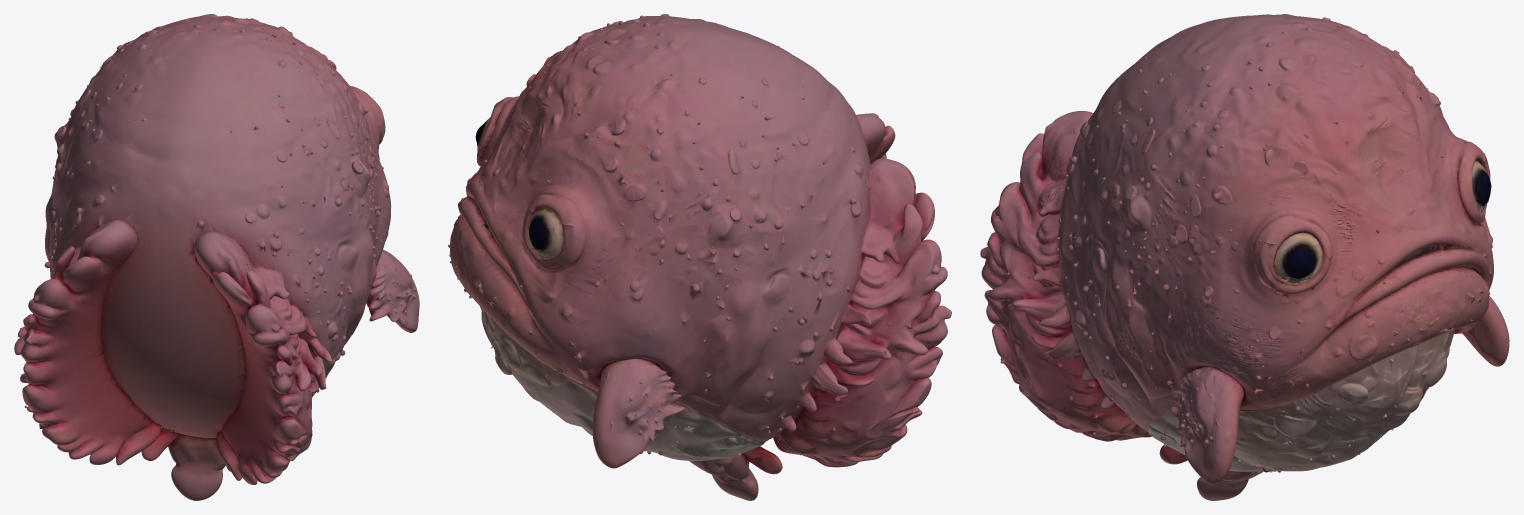
File: blobfish.glb
The picture shows the model from 3 angles, left to right: view 1: azimuth 30°, elevation 25°; view 2: azimuth 150°, elevation 25°; view 3: azimuth 270°, elevation 25°; orthographic projection. The views are drawn at different scales.
Parts seen in each view (by area): view 1: tripo_node_21ccf56e-17da-434c-9439-0209254fefd2; view 2: tripo_node_21ccf56e-17da-434c-9439-0209254fefd2; view 3: tripo_node_21ccf56e-17da-434c-9439-0209254fefd2.
Boxes of the visible parts, x1=… form: tripo_node_21ccf56e-17da-434c-9439-0209254fefd2: x1=14, y1=14, x2=419, y2=500; tripo_node_21ccf56e-17da-434c-9439-0209254fefd2: x1=448, y1=14, x2=951, y2=500; tripo_node_21ccf56e-17da-434c-9439-0209254fefd2: x1=980, y1=14, x2=1509, y2=500.
Bounding box in the file's own units: 0.9446 × 0.9797 × 0.9459.
Materials: 1 (1 with a texture image).
